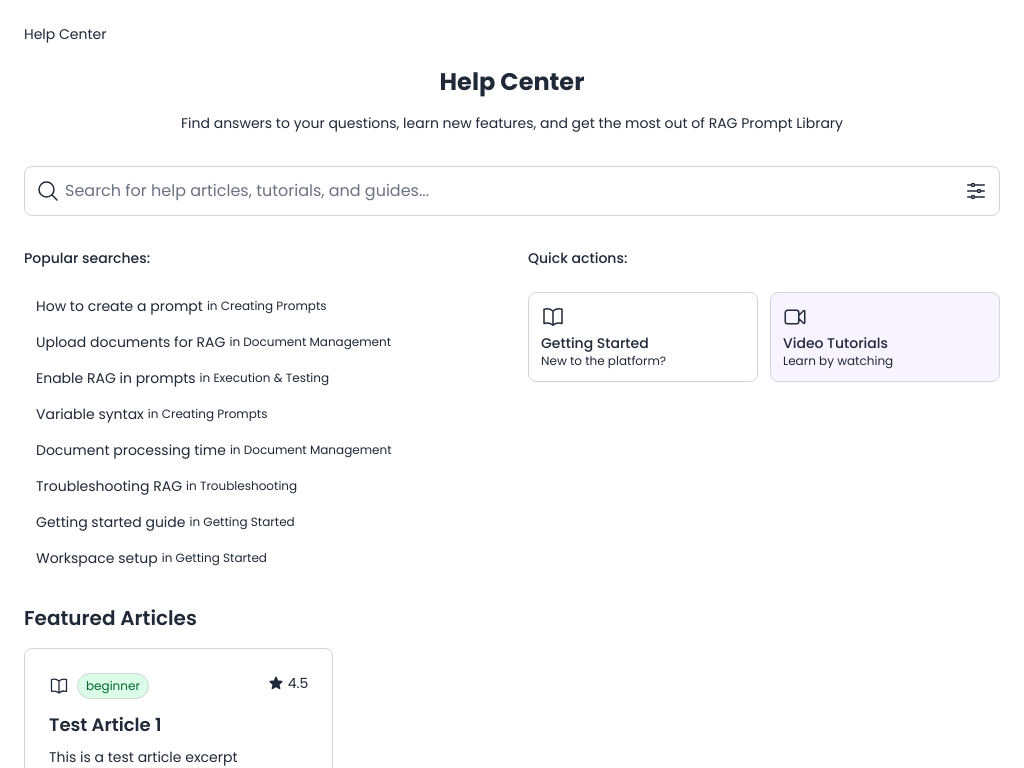
Test: HelpCenter Component › Article Interaction › should open article when clicked
Click the heading "Test Article 1".
click(105, 724)  # box [49,712,162,737]
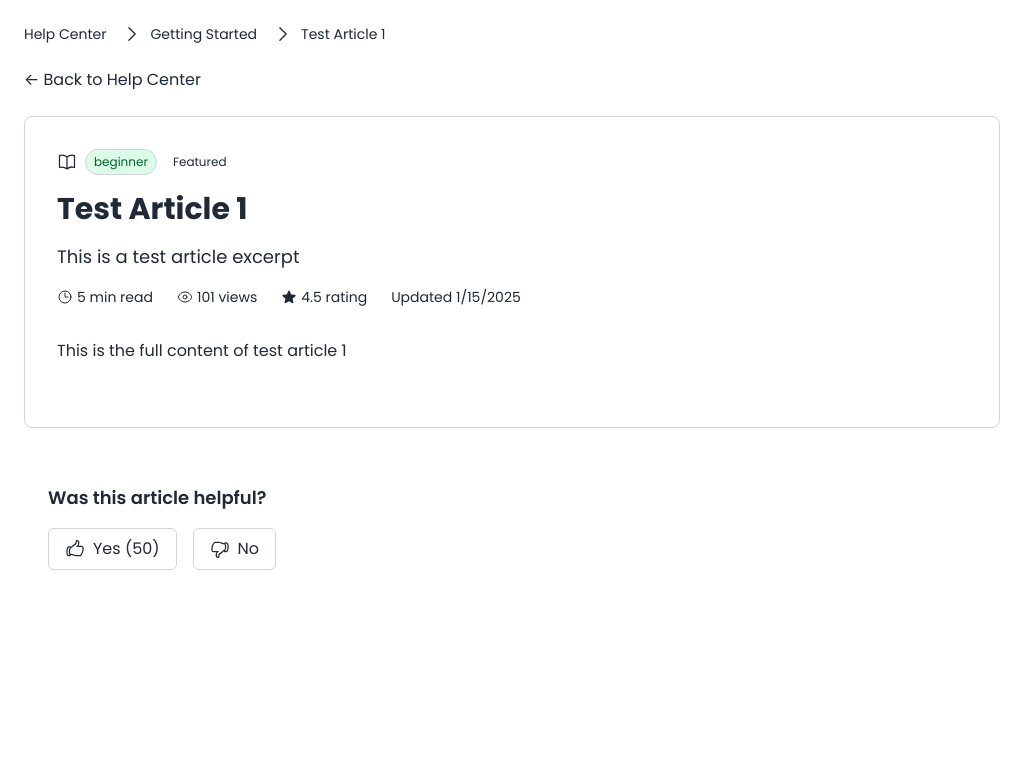
Result: the text "This is the full content of test article 1" is shown at [57,339,347,362]
